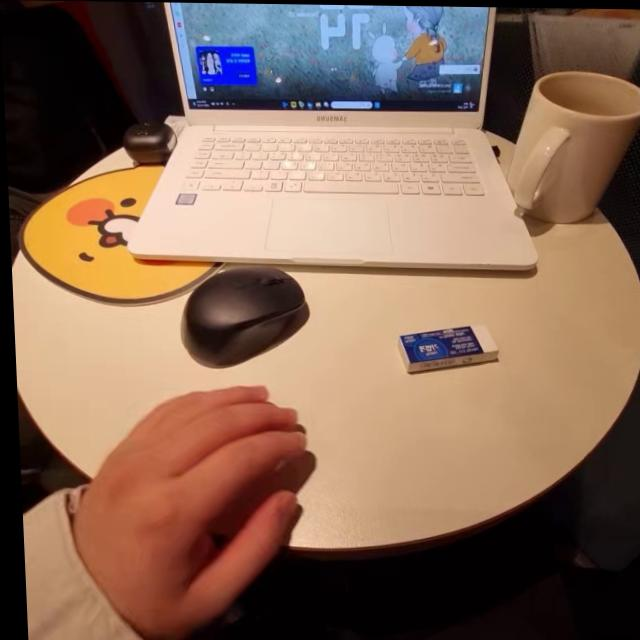eraser: (370, 311, 499, 384)
hand: (52, 359, 349, 635)
mouse: (167, 258, 312, 378)
